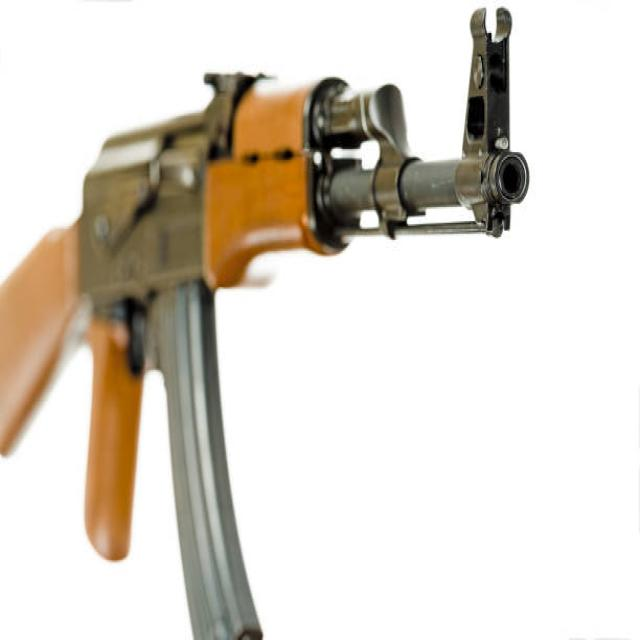rifle: (1, 6, 536, 640)
